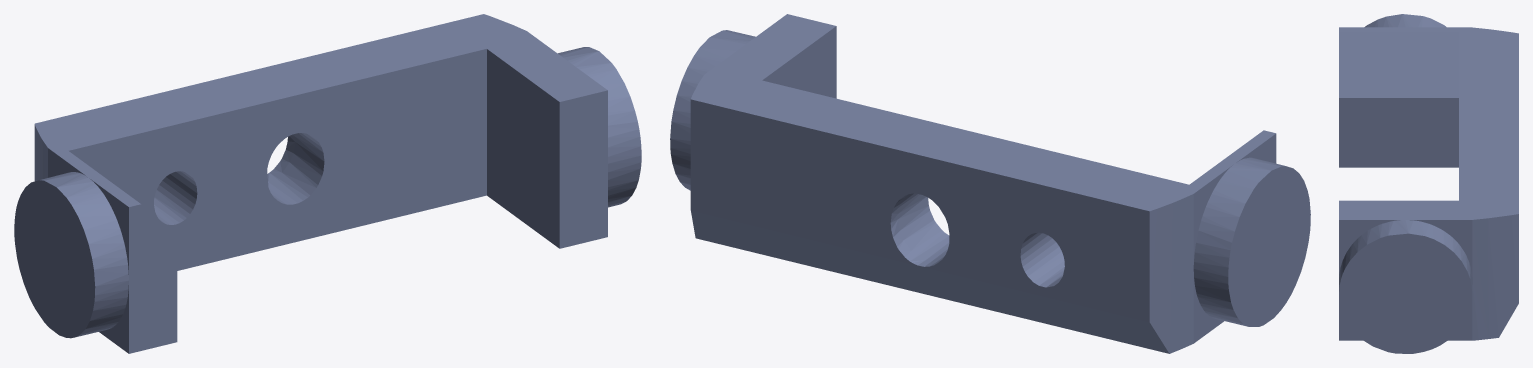
File: i02_head_left_eye_horizontal_visual.obj.full.glb
3 renders of one model, left to right at view 1: azimuth 30°, elevation 25°; view 2: azimuth 150°, elevation 25°; view 3: azimuth 270°, elevation 25°, orthographic. The views are drawn at different scales.
Bounding box in the file's own units: 0.1838 × 0.0472 × 0.0637.
